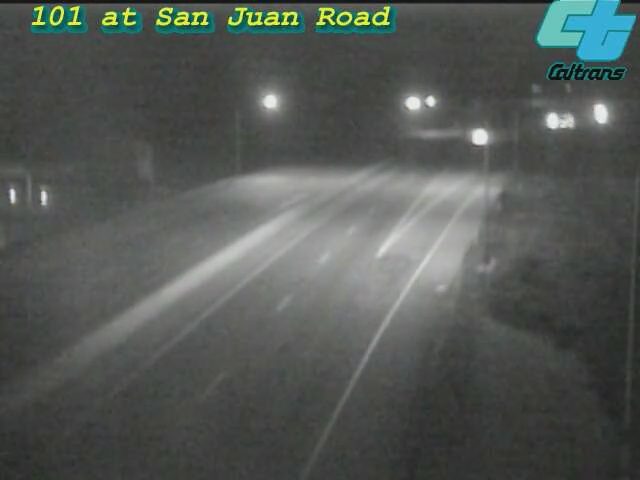vehicle: (546, 98, 596, 148), (458, 112, 508, 162), (527, 94, 577, 144), (574, 90, 624, 140)
